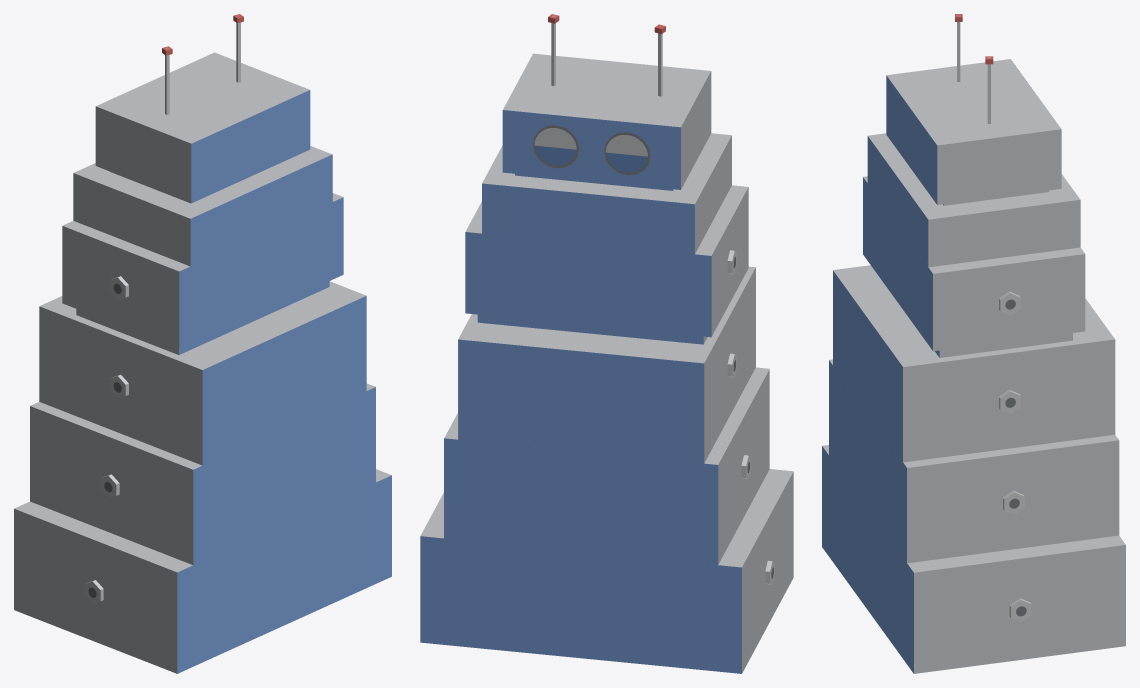
The model's file is robot.glb.
3 views of the same model, side by side, from view 1: azimuth 30°, elevation 25°; view 2: azimuth 150°, elevation 25°; view 3: azimuth 270°, elevation 25° (orthographic). The views are drawn at different scales.
Parts seen in each view (by area): view 1: robot; view 2: robot; view 3: robot.
Boxes of the visible parts, <box> form: robot: <box>14,14,391,673</box>; robot: <box>420,14,793,673</box>; robot: <box>822,14,1125,673</box>.
Size of the model in its own units: 55.7 by 94 by 46.24.
